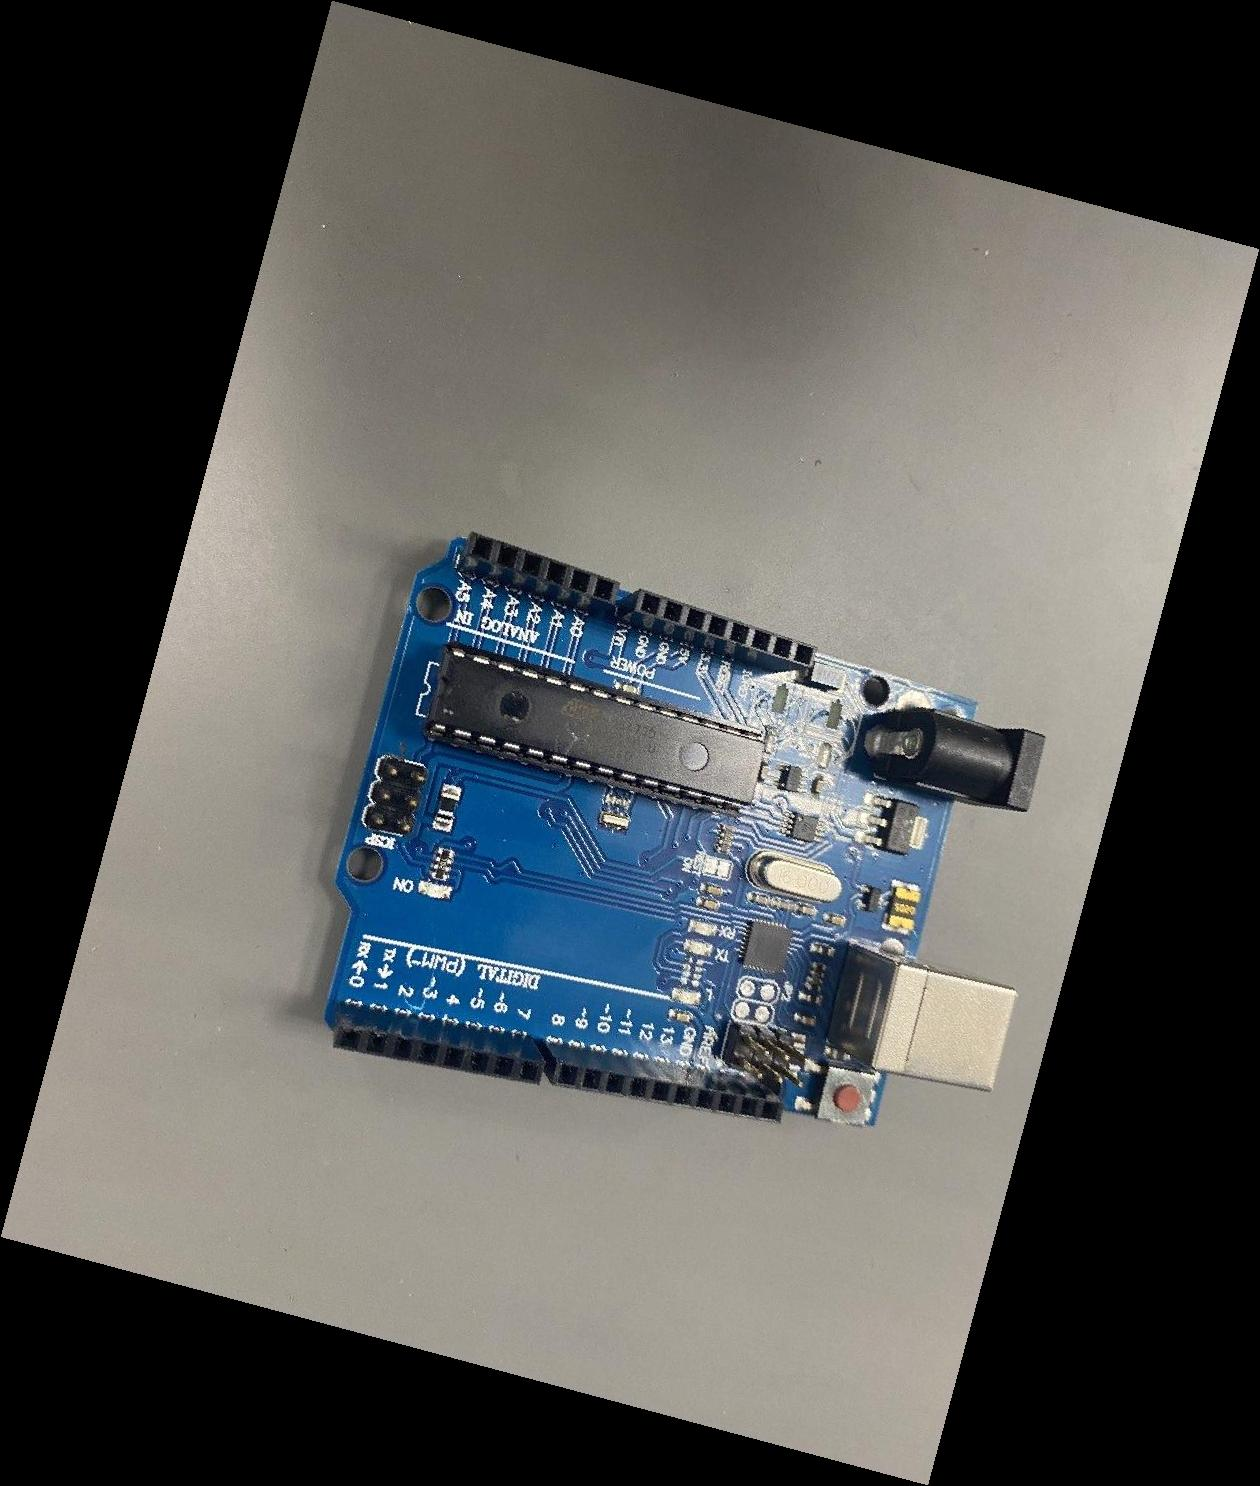ATmega328 chip: (424, 644, 765, 819)
Arduino board: (324, 529, 1045, 1129)
USB: (826, 941, 1019, 1090)
pins: (540, 1040, 785, 1125), (614, 587, 817, 675), (330, 1002, 545, 1085), (457, 530, 621, 621)
resistor: (271, 846, 612, 884), (645, 960, 985, 995), (555, 822, 895, 856)
